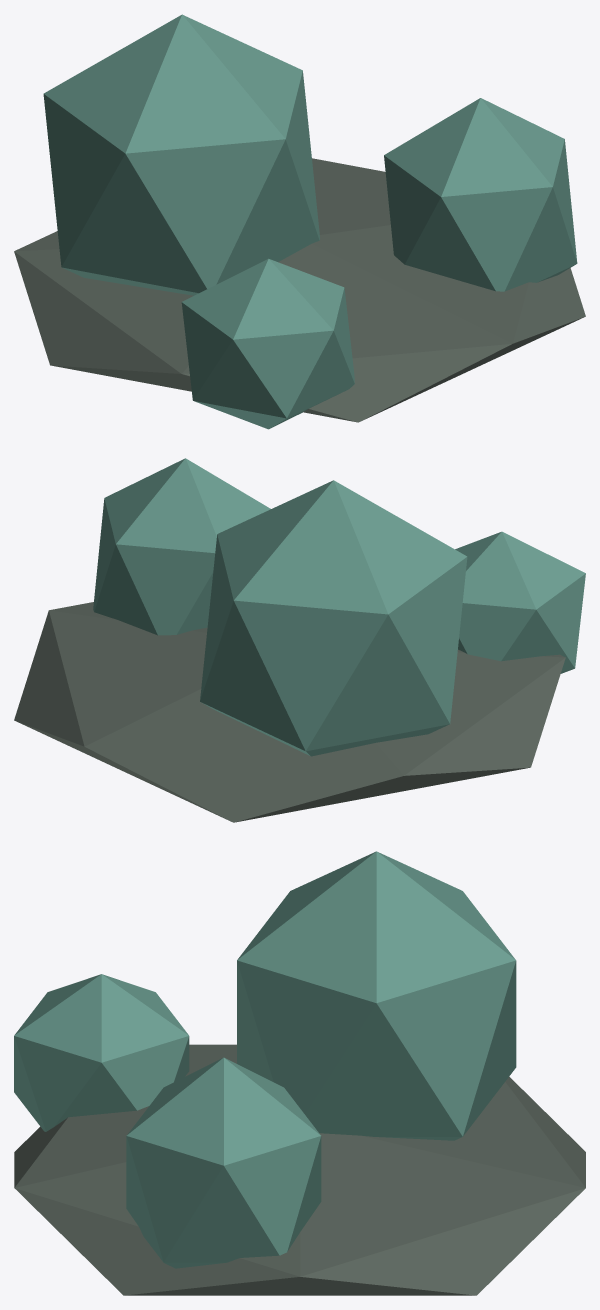
File: ore-copper-lod0.dc20675ec14a.glb
3 views of the same model, one above another, from view 1: azimuth 30°, elevation 25°; view 2: azimuth 150°, elevation 25°; view 3: azimuth 270°, elevation 25° (orthographic). The views are drawn at different scales.
Visible parts, largest first — view 1: body; view 2: body; view 3: body.
Boxes of the visible parts, bbox=[...] form: body: bbox=[14, 14, 585, 429]; body: bbox=[14, 458, 585, 822]; body: bbox=[14, 851, 585, 1295].
Size of the model in its own units: 0.796 by 0.47 by 0.7491.
